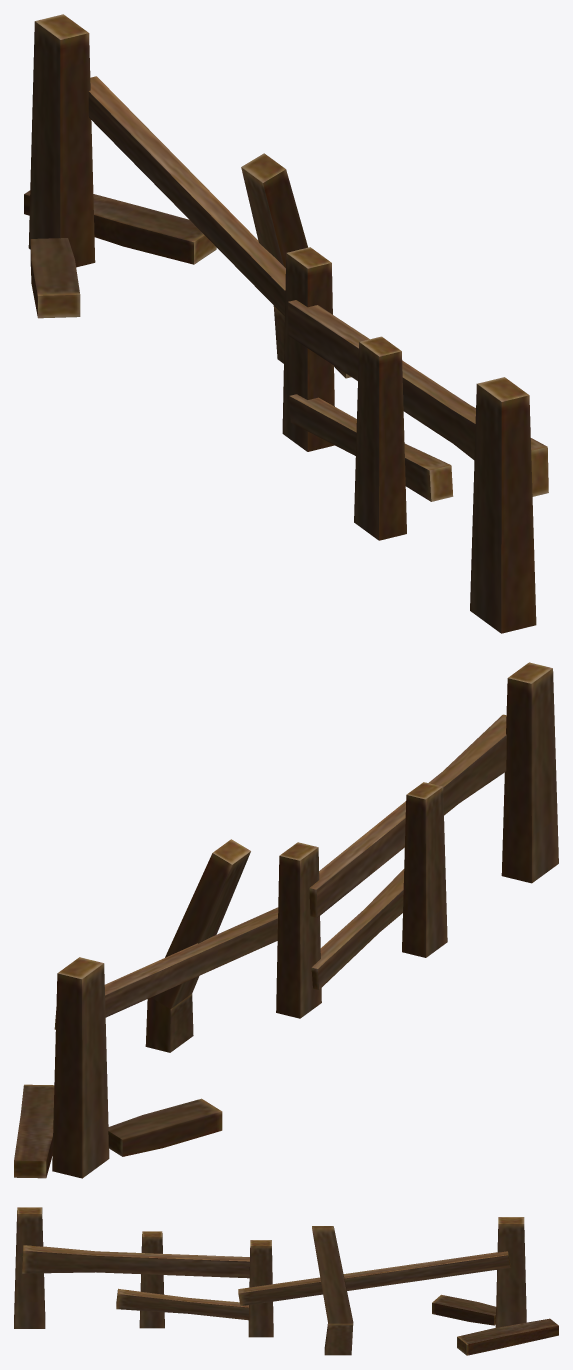
The model's file is Map01_MuZhaLan.FBX.
The picture shows the model from 3 angles, top to bottom: view 1: azimuth 30°, elevation 25°; view 2: azimuth 150°, elevation 25°; view 3: azimuth 270°, elevation 25°; orthographic projection. The views are drawn at different scales.
Parts seen in each view (by area): view 1: Map01_MuZhaLan; view 2: Map01_MuZhaLan; view 3: Map01_MuZhaLan.
Part boxes in pixels (left/top/right/bottom): Map01_MuZhaLan: left=24, top=14, right=548, bottom=633; Map01_MuZhaLan: left=14, top=662, right=558, bottom=1178; Map01_MuZhaLan: left=14, top=1207, right=558, bottom=1355.
Bounding box in the file's own units: 137 × 146 × 632.
